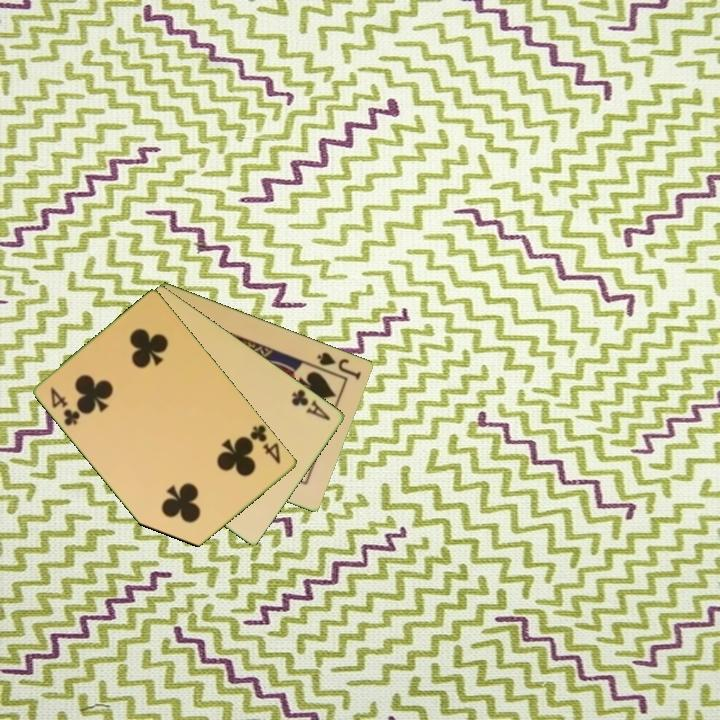4c: (246, 421, 284, 467), (47, 383, 84, 429)
Ac: (288, 385, 334, 423)
Js: (314, 348, 364, 383)
